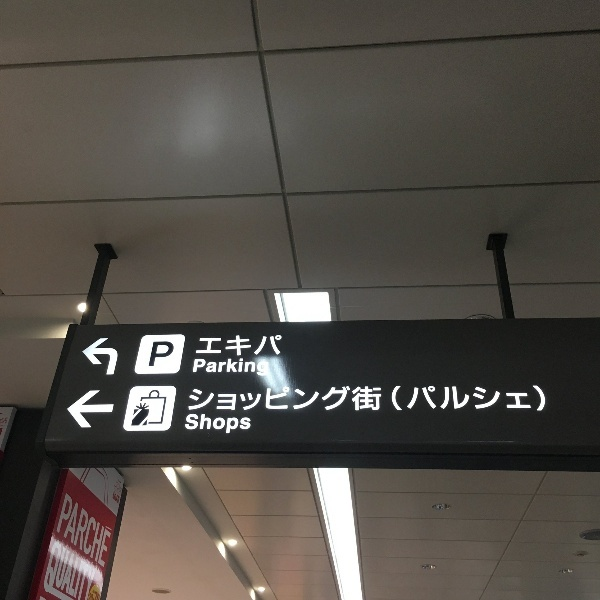text: (97, 491, 113, 574), (65, 491, 80, 574), (81, 491, 96, 574), (65, 538, 80, 595), (81, 538, 96, 595), (53, 538, 64, 595), (401, 381, 416, 415), (417, 381, 432, 415), (433, 381, 448, 415), (449, 381, 464, 415), (465, 381, 480, 415), (481, 381, 496, 415), (497, 381, 512, 415), (513, 381, 528, 415), (529, 381, 544, 415), (193, 383, 208, 416), (209, 383, 224, 416), (225, 383, 240, 416), (241, 383, 256, 416), (257, 383, 272, 416), (273, 383, 288, 416), (289, 383, 304, 416), (305, 383, 320, 416), (321, 383, 336, 416), (337, 383, 352, 416), (353, 383, 368, 416), (369, 383, 384, 416), (161, 340, 177, 370), (209, 334, 224, 361), (225, 334, 240, 361), (241, 334, 256, 361), (257, 334, 272, 361), (273, 334, 286, 361), (97, 538, 103, 595), (193, 356, 208, 378), (209, 356, 224, 378), (225, 356, 240, 378), (241, 356, 256, 378), (193, 413, 208, 434), (209, 413, 224, 434), (225, 413, 240, 434), (257, 356, 271, 378), (392, 381, 400, 415), (198, 334, 208, 361), (241, 413, 253, 434), (1, 412, 16, 428), (153, 340, 160, 370), (117, 478, 128, 494), (184, 413, 192, 434), (545, 381, 546, 415), (191, 383, 192, 416)
